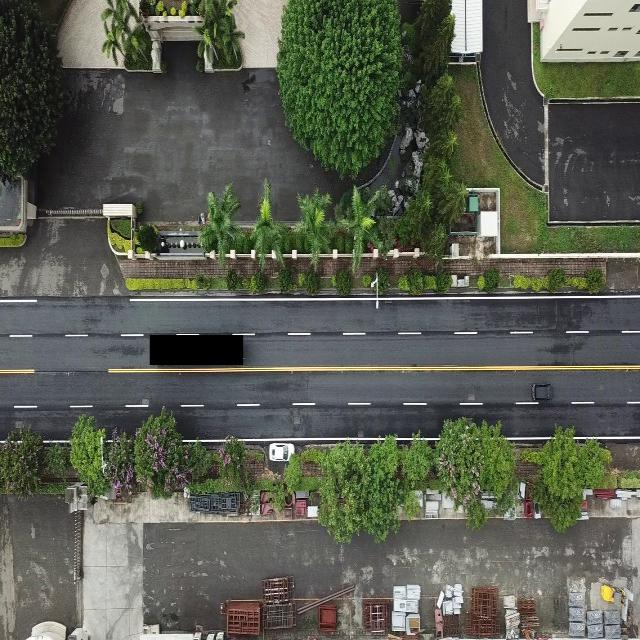car: (267, 438, 294, 465), (532, 382, 553, 401)
